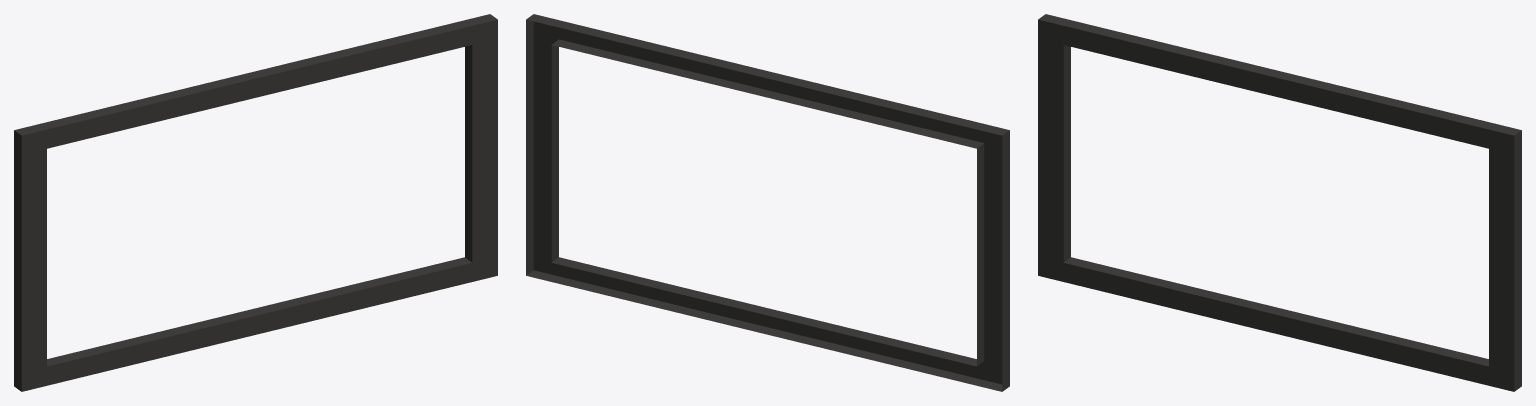
File: PaintFram.fbx
3 renders of one model, left to right at view 1: azimuth 30°, elevation 25°; view 2: azimuth 150°, elevation 25°; view 3: azimuth 330°, elevation 25°, orthographic.
Parts seen in each view (by area): view 1: PaintFram; view 2: PaintFram; view 3: PaintFram.
Part boxes in pixels (bbox=[...]): PaintFram: bbox=[14, 14, 497, 391]; PaintFram: bbox=[526, 14, 1009, 391]; PaintFram: bbox=[1038, 14, 1521, 391].
Bounding box in the file's own units: 92 × 47.32 × 2.54.
